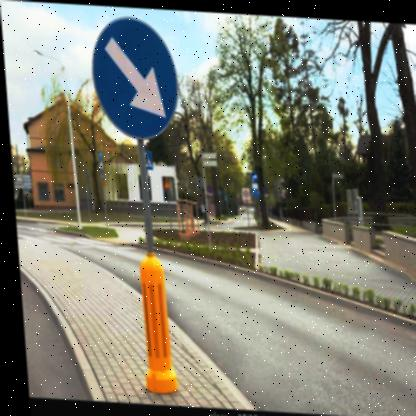Keep right: (87, 11, 180, 142)
